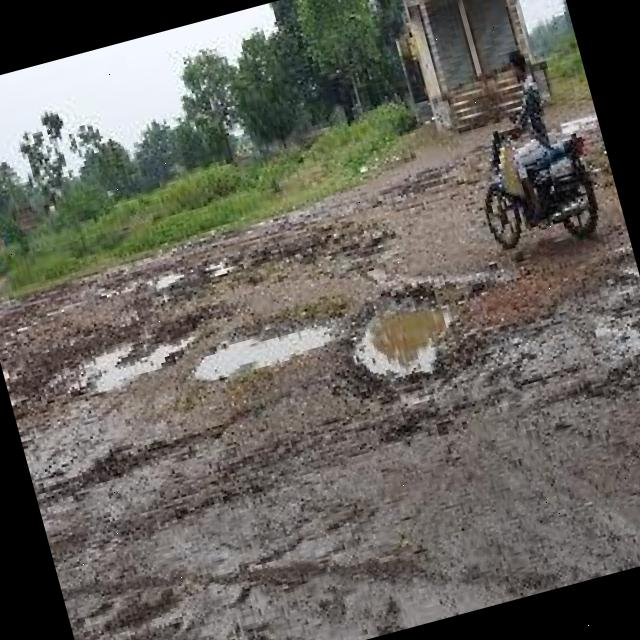waterlogging: (323, 271, 472, 398), (182, 300, 322, 396), (48, 321, 177, 403)
